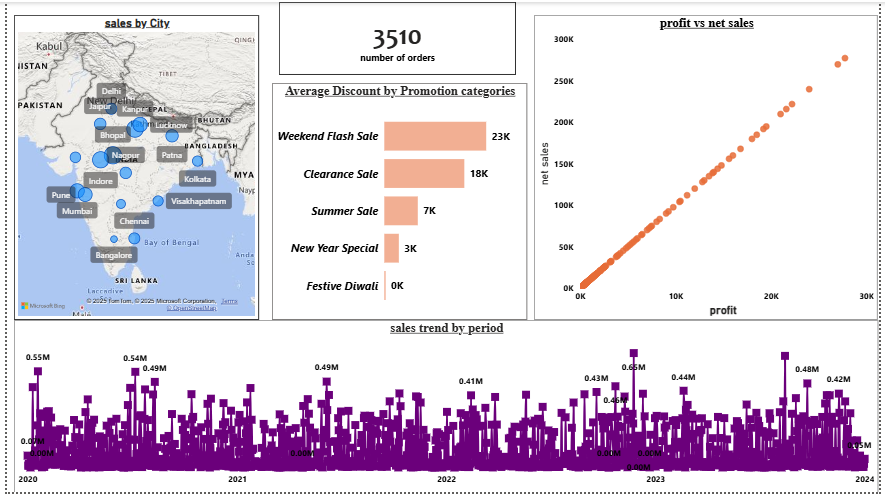

The dashboard page shown, as its layout file describes it:
{"tool":"powerbi","page":{"name":"OVERVIEW","canvas":[1280,720],"ordinal":0},"visuals":[{"type":"lineChart","title":"sales trend by period","fields":{"Y":["Sum(fact table.net sales)"],"Category":["fact table.Date (dd/mm/yyyy)"]},"box":[10.1,467,1269.9,253.6],"z":0},{"type":"scatterChart","title":"profit vs net sales","fields":{"X":["fact table.profit"],"Y":["fact table.net sales"]},"box":[774.4,19.1,505.5,448.2],"z":1000},{"type":"barChart","title":"Average Discount  by Promotion categories","fields":{"Y":["Avg(fact table.Discount value)"],"Category":["Dim Promotion.Promotion Name"]},"box":[389.4,119,374.7,348.2],"z":2000},{"type":"map","title":" sales by City","fields":{"Category":["Dim Customers.City"],"Size":["Sum(fact table.net sales)"]},"box":[10.3,19.1,360,448.2],"z":3000},{"type":"card","fields":{"Values":["CountNonNull(fact table.order id)"]},"box":[399.7,0,348.2,107.3],"z":4000}]}

Visuals, with their boxes in screenshot pixels (x1, y1, x2, y2), scaled from the page's 1280x720 canvas onto the 885x498 screenshot:
"sales trend by period" lineChart: locate(7, 323, 884, 497)
"profit vs net sales" scatterChart: locate(535, 13, 884, 323)
"Average Discount  by Promotion categories" barChart: locate(269, 82, 528, 323)
" sales by City" map: locate(7, 13, 256, 323)
card - CountNonNull(fact table.order id): locate(276, 0, 517, 74)
